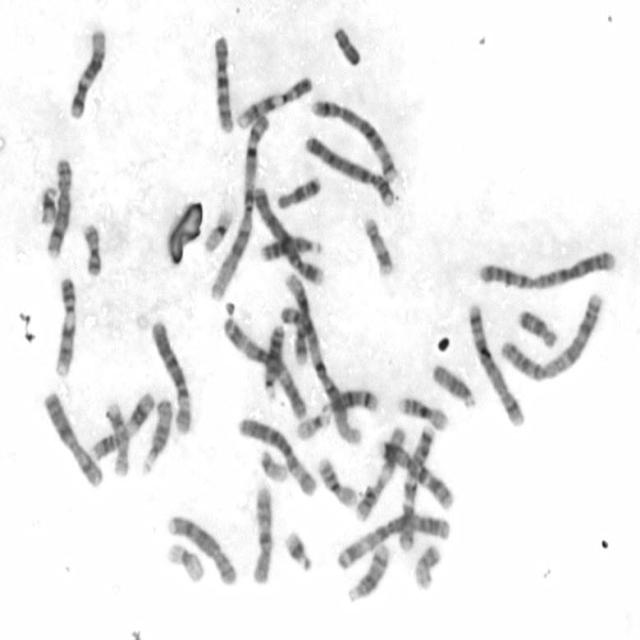A1: (207, 109, 272, 302), (278, 302, 363, 448)
A2: (496, 287, 606, 384), (472, 244, 618, 292)
A3: (220, 311, 308, 420), (332, 509, 452, 572)
B4: (251, 184, 325, 287), (301, 130, 396, 209)
B5: (308, 94, 400, 185), (465, 299, 526, 427)
C10: (248, 480, 276, 586), (210, 30, 235, 135)
C11: (352, 423, 409, 524), (87, 387, 157, 461)
C12: (66, 25, 108, 121), (283, 270, 312, 368)
C6: (235, 412, 318, 498), (148, 316, 194, 436)
C7: (376, 432, 455, 511), (396, 424, 436, 552)
C8: (164, 510, 239, 588), (43, 153, 74, 261)
C9: (233, 72, 314, 130), (50, 274, 79, 380)
D13: (257, 230, 324, 264), (260, 321, 286, 400)
D14: (344, 540, 392, 605), (315, 384, 380, 419)
D15: (139, 394, 174, 476), (430, 360, 477, 410)
E16: (314, 452, 359, 510), (396, 392, 450, 433)
E17: (361, 212, 396, 280), (102, 399, 130, 478)
E18: (514, 304, 560, 350), (274, 172, 323, 211)
F19: (164, 538, 208, 585), (201, 203, 236, 254)
F20: (410, 540, 442, 591), (80, 219, 104, 279)
G21: (282, 526, 315, 574), (36, 181, 60, 226)
G22: (294, 405, 331, 441), (256, 445, 290, 484)
X: (41, 388, 104, 490)
Y: (332, 22, 362, 67)
